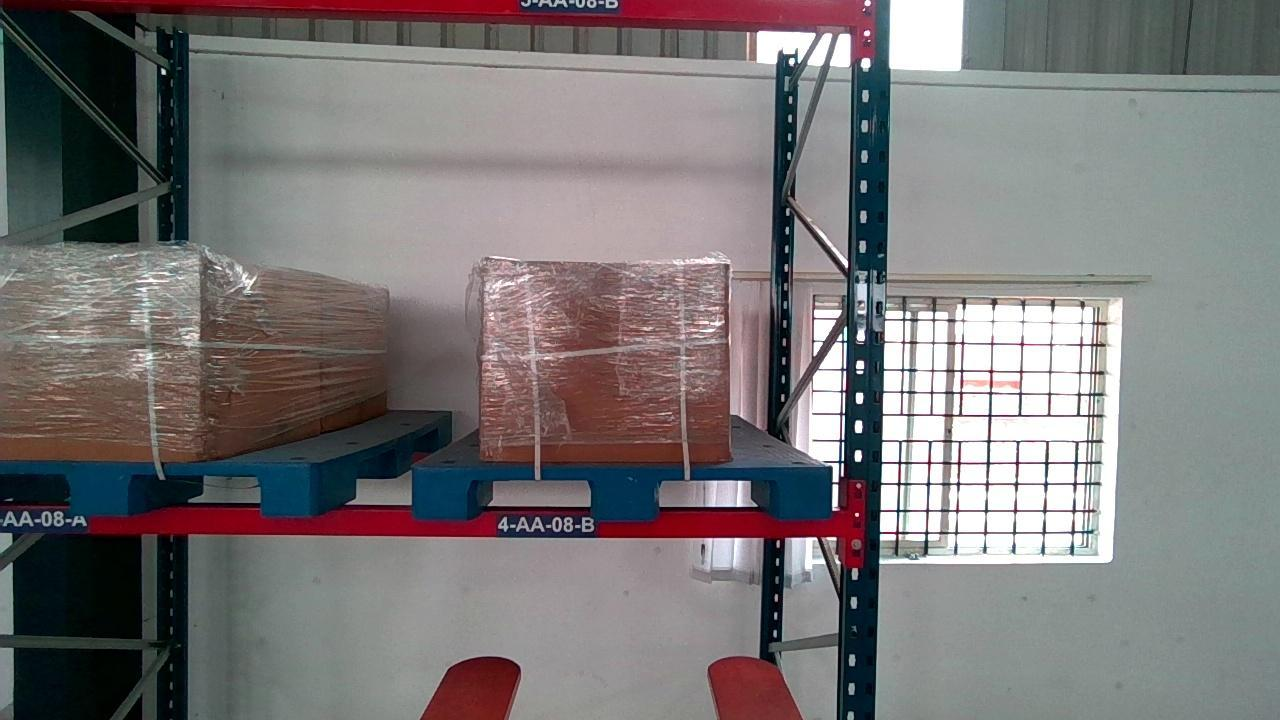h_rack: (5, 499, 854, 536)
small_pallet: (414, 467, 831, 517), (12, 462, 321, 516)
